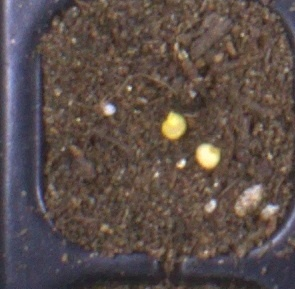chilli seed: (159, 109, 187, 140), (194, 142, 221, 170)
